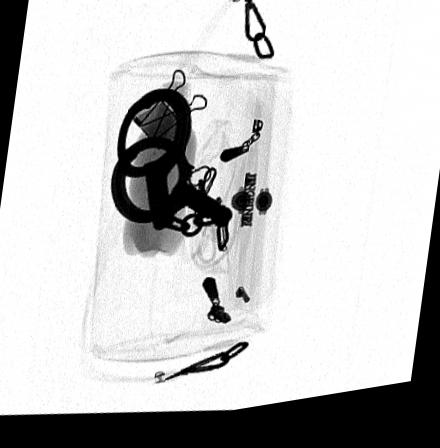HandCuffs: (110, 94, 232, 244)
